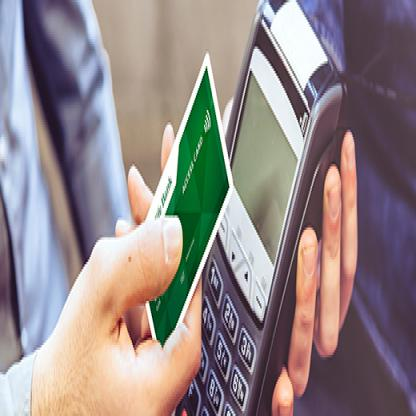tarjeta: (140, 46, 234, 348)
